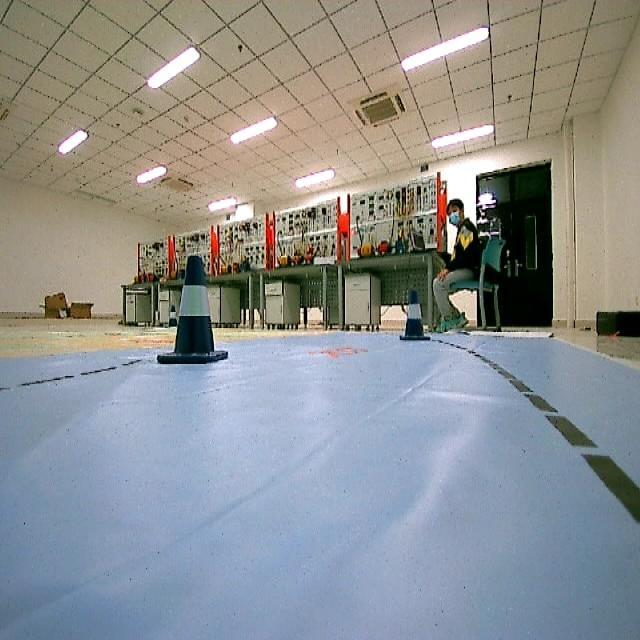obstacle: (155, 255, 233, 368), (392, 286, 430, 345)
